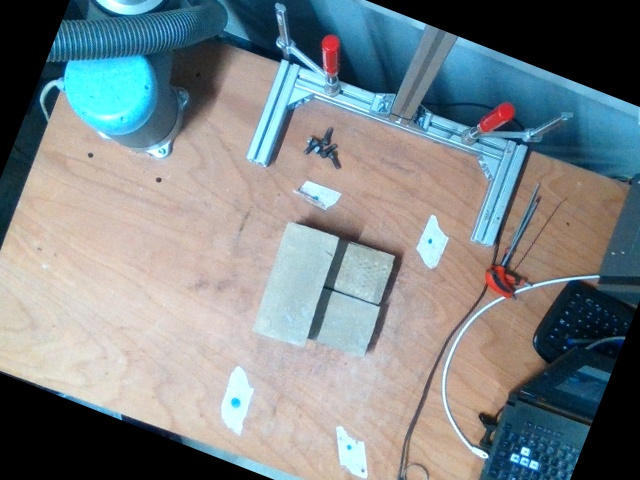brick: (250, 221, 340, 345)
